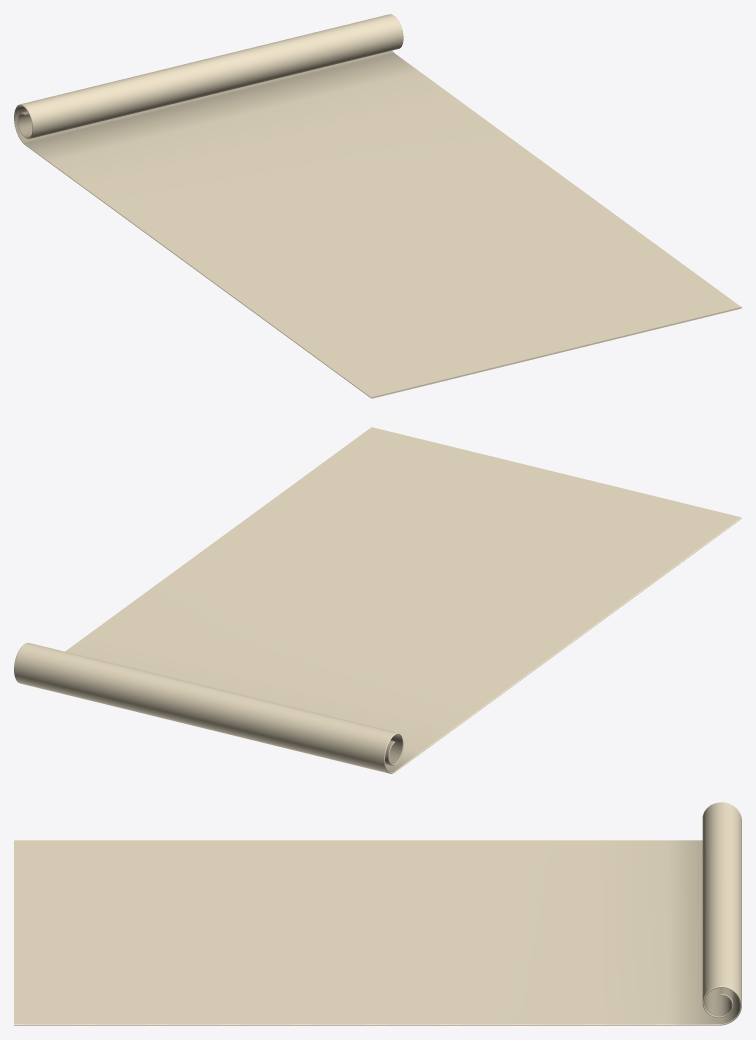
The model's file is blueprint_sheet.glb.
3 renders of one model, top to bottom at view 1: azimuth 30°, elevation 25°; view 2: azimuth 150°, elevation 25°; view 3: azimuth 270°, elevation 25°, orthographic.
Parts seen in each view (by area): view 1: Blueprint_Sheet; view 2: Blueprint_Sheet; view 3: Blueprint_Sheet.
Boxes of the visible parts, bbox=[...] form: Blueprint_Sheet: bbox=[14, 14, 741, 398]; Blueprint_Sheet: bbox=[14, 427, 741, 773]; Blueprint_Sheet: bbox=[14, 802, 741, 1025].
Bounding box in the file's own units: 0.12 × 0.012 × 0.2002.
